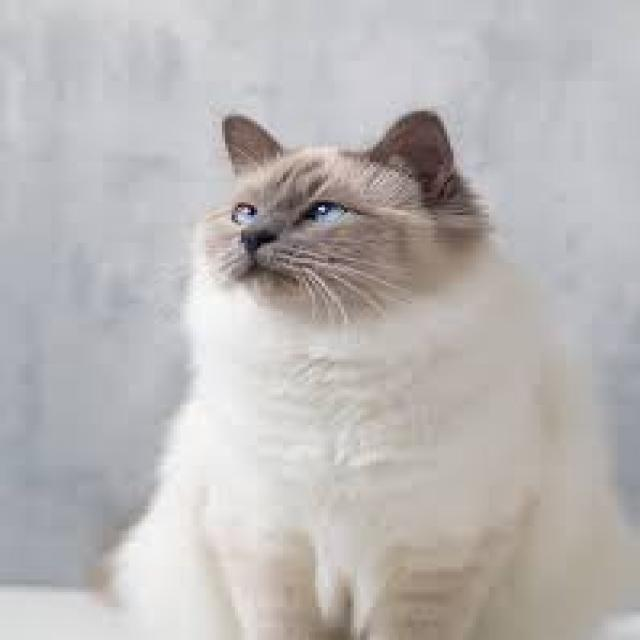Cat: (93, 105, 640, 640)
